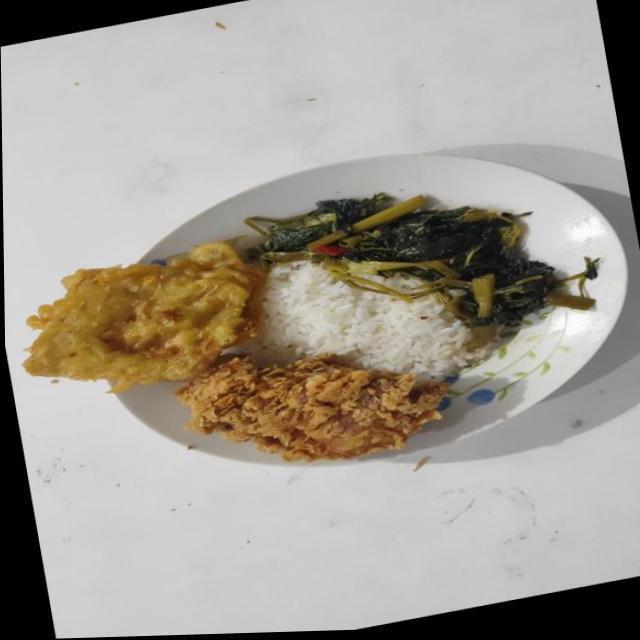nasi_putih: (245, 261, 502, 381)
tumis_kangkung: (245, 194, 600, 352)
